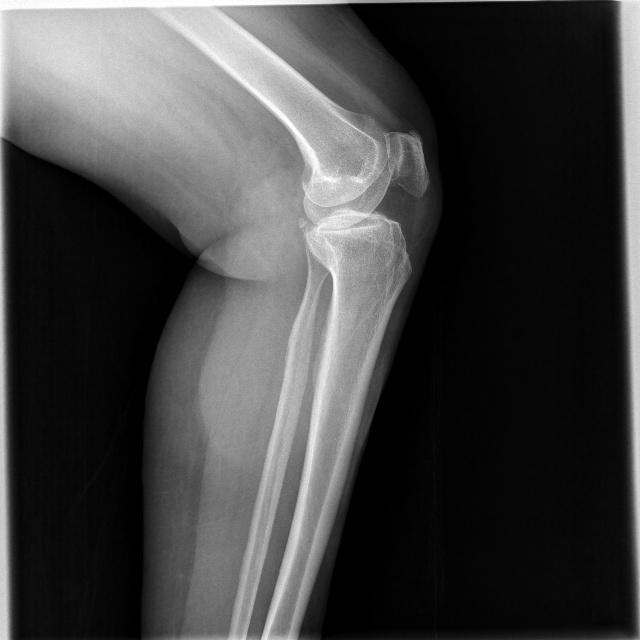Knee: (286, 124, 431, 291)
